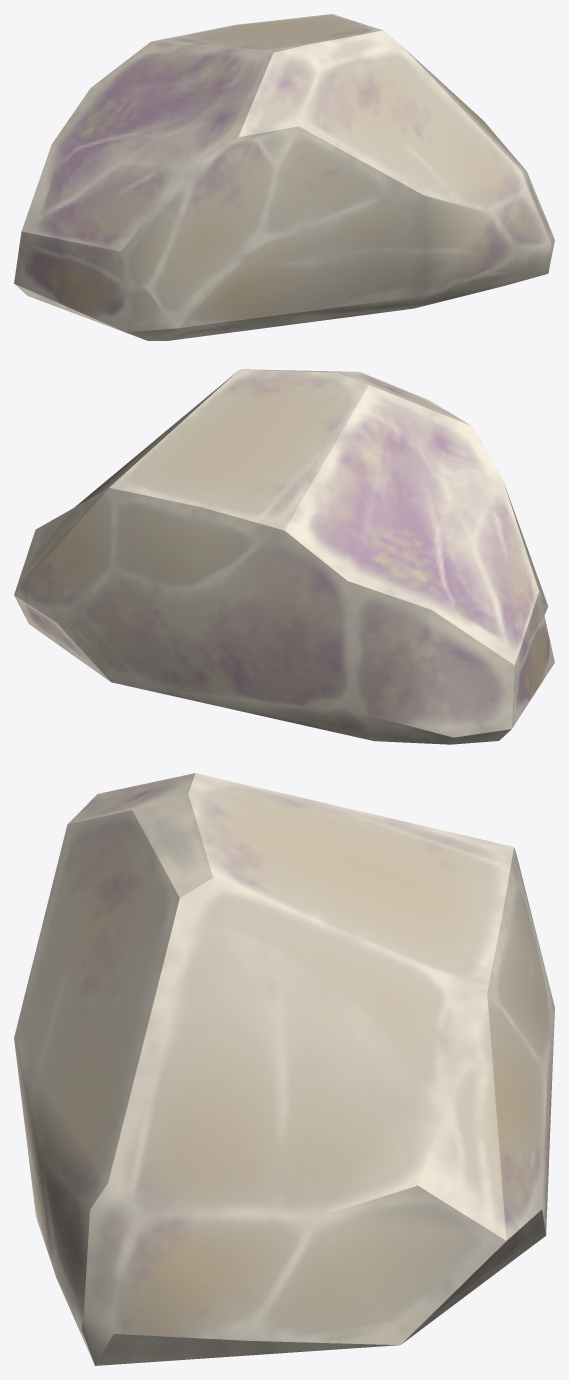
File: rock_medium.glb
3 renders of one model, top to bottom at view 1: azimuth 30°, elevation 25°; view 2: azimuth 150°, elevation 25°; view 3: azimuth 270°, elevation 25°, orthographic. The views are drawn at different scales.
Parts seen in each view (by area): view 1: r7_low_fh_rocks_0; view 2: r7_low_fh_rocks_0; view 3: r7_low_fh_rocks_0.
Boxes of the visible parts, x1=… form: r7_low_fh_rocks_0: x1=14, y1=14, x2=554, y2=340; r7_low_fh_rocks_0: x1=14, y1=369, x2=554, y2=744; r7_low_fh_rocks_0: x1=14, y1=773, x2=554, y2=1365.
Size of the model in its own units: 26.1 by 14.08 by 16.88.
1 material, 1 textured.
